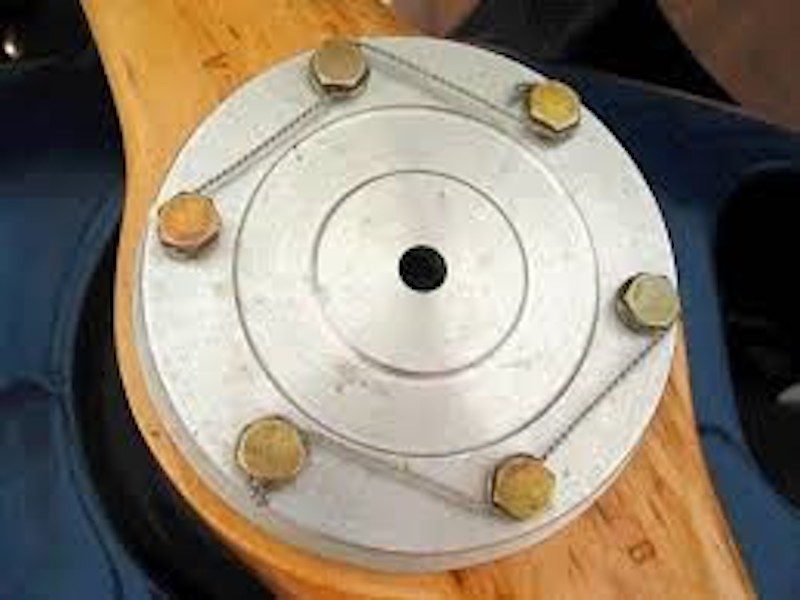bolt: (233, 413, 312, 488), (486, 451, 558, 525), (154, 189, 225, 262), (614, 270, 683, 336), (309, 39, 372, 103), (521, 79, 584, 142)
hole: (396, 244, 449, 294)
